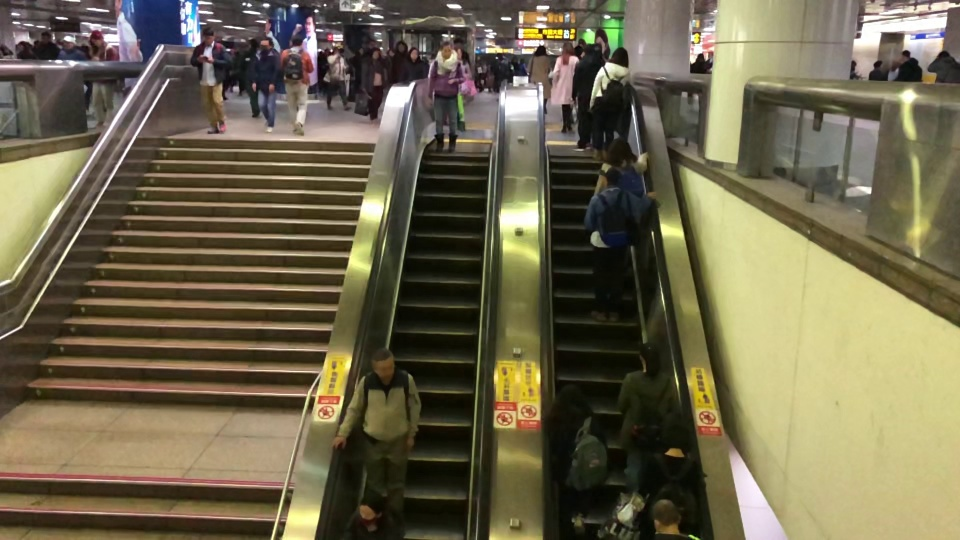person_head: (648, 494, 683, 532), (356, 487, 386, 527), (369, 347, 397, 383), (662, 418, 691, 452), (604, 136, 632, 167), (638, 339, 662, 371), (554, 381, 584, 406), (598, 167, 622, 190), (609, 46, 630, 68), (257, 36, 275, 54), (202, 24, 216, 46), (288, 32, 304, 51), (88, 29, 104, 47), (60, 34, 76, 50), (440, 40, 453, 59), (561, 41, 575, 56), (533, 44, 547, 58), (584, 43, 596, 59), (899, 47, 911, 62), (408, 46, 420, 60), (937, 49, 950, 61), (369, 47, 381, 59), (40, 30, 51, 43), (248, 37, 258, 51), (331, 46, 341, 59), (873, 58, 883, 70)
person_vbox: (326, 346, 422, 511), (583, 167, 655, 322), (616, 341, 678, 493), (544, 383, 610, 507), (638, 421, 702, 523), (589, 48, 632, 162), (191, 27, 233, 134), (426, 42, 465, 151), (82, 28, 120, 128), (570, 42, 604, 153), (335, 489, 408, 540), (592, 137, 650, 200), (279, 33, 314, 136), (251, 37, 282, 133), (638, 497, 702, 540), (552, 40, 579, 133), (360, 47, 387, 126), (524, 45, 552, 114), (323, 46, 352, 111), (240, 37, 263, 118), (398, 46, 428, 82), (927, 51, 960, 83), (891, 50, 923, 82), (54, 34, 88, 61), (32, 30, 59, 59), (867, 60, 888, 82)
